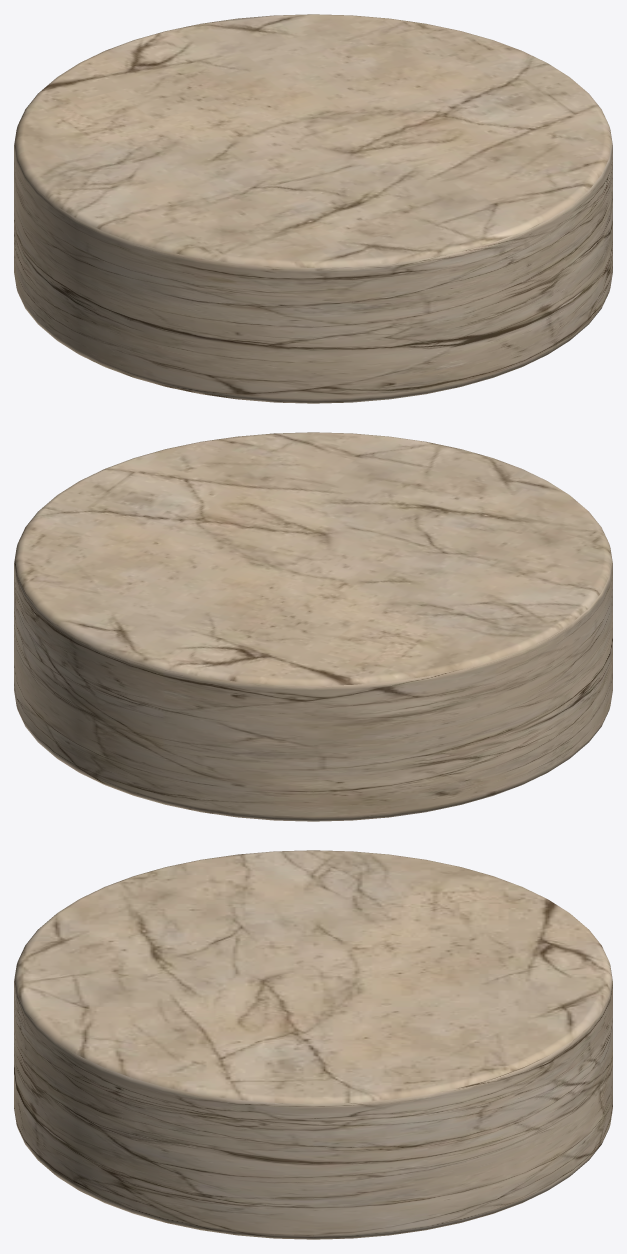
Rendered from coffee-table.glb.
The picture shows the model from 3 angles, top to bottom: view 1: azimuth 30°, elevation 25°; view 2: azimuth 150°, elevation 25°; view 3: azimuth 270°, elevation 25°; orthographic projection.
Visible parts, largest first — view 1: Monolithic low coffee table.001; view 2: Monolithic low coffee table.001; view 3: Monolithic low coffee table.001.
Boxes of the visible parts, bbox=[...] form: Monolithic low coffee table.001: bbox=[14, 14, 612, 403]; Monolithic low coffee table.001: bbox=[14, 432, 612, 821]; Monolithic low coffee table.001: bbox=[14, 850, 612, 1239].
Size of the model in its own units: 1.72 by 0.45 by 1.72.
Materials: 1 (1 with a texture image).
